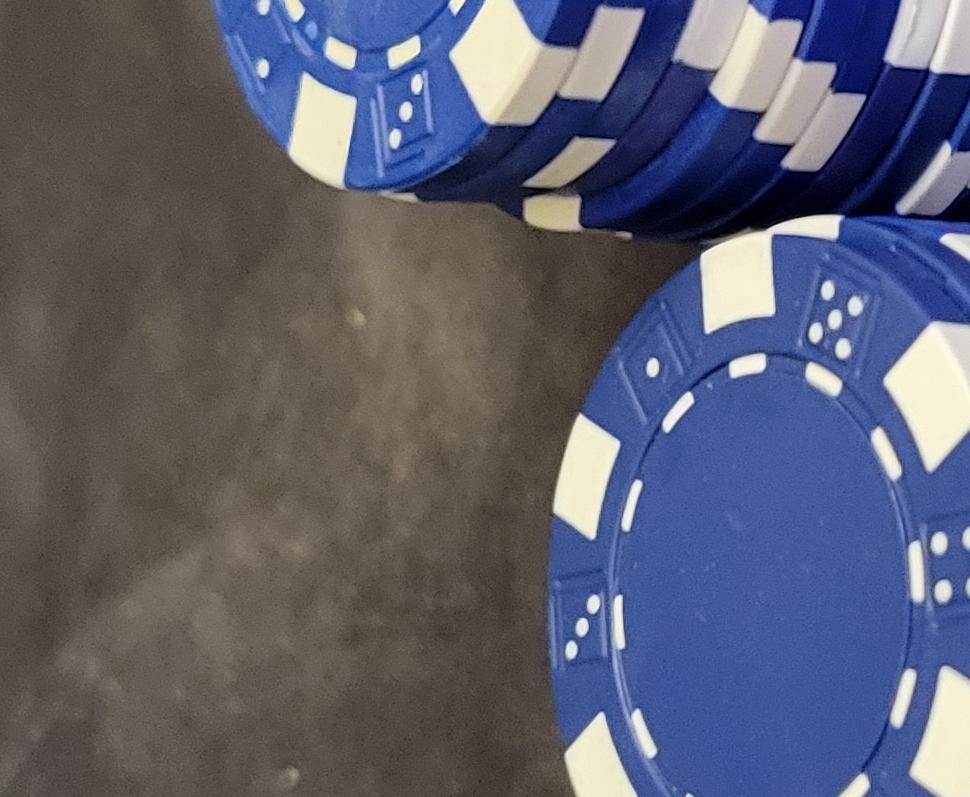Chip: (1, 399, 434, 797)
